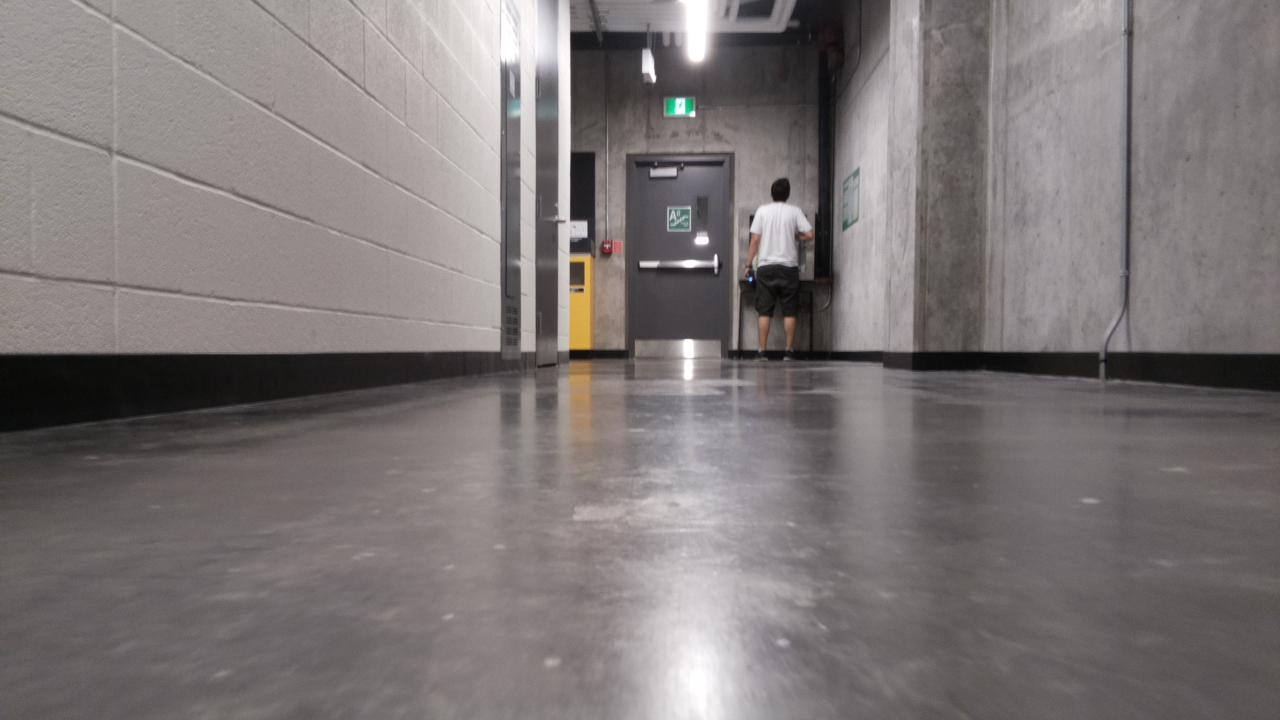door: (634, 162, 722, 357)
person: (742, 176, 814, 361)
sign: (842, 168, 858, 230), (664, 97, 694, 117), (668, 207, 690, 231), (569, 220, 587, 242)
